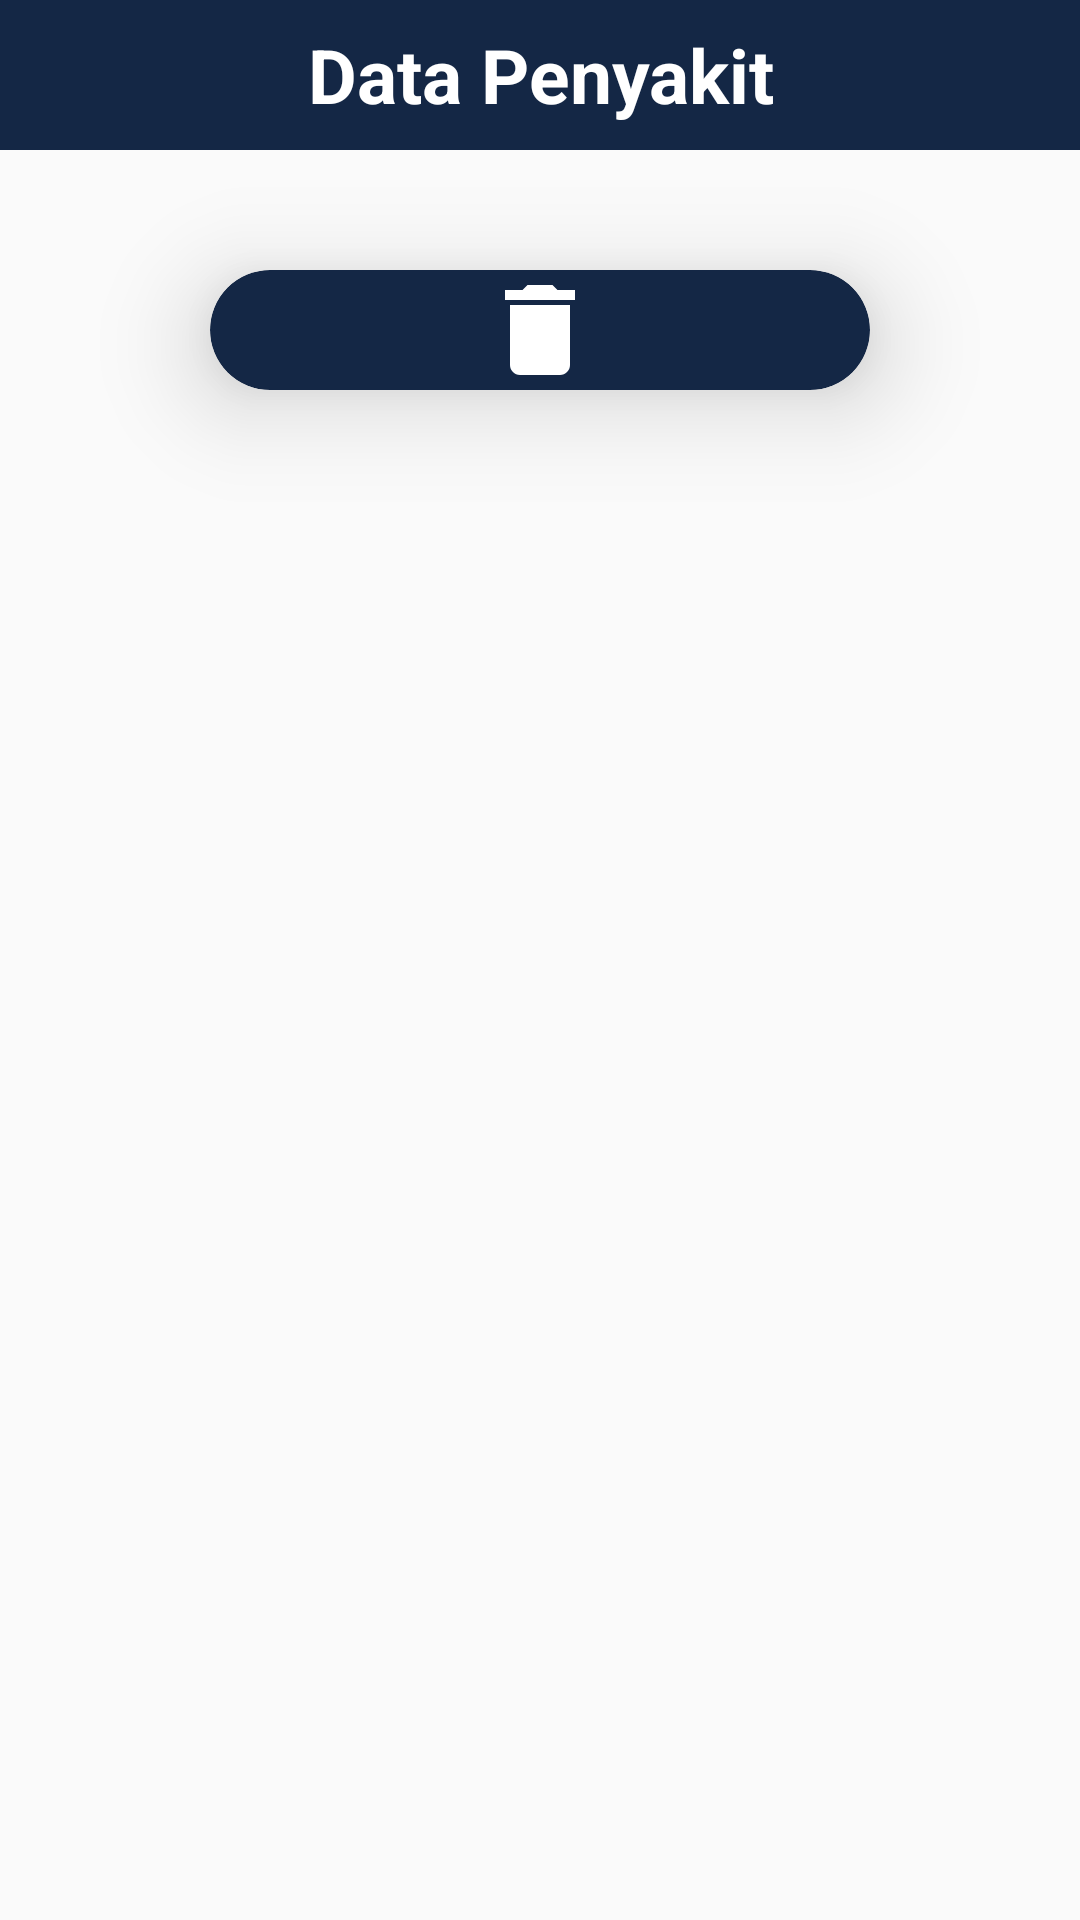

Point at icon controls on the screen. Image size 1080px×1920px, points as point (x, y).
delete: point (540, 330)
